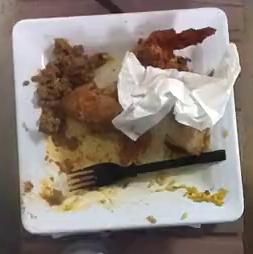bacon: (133, 27, 216, 71)
beef: (31, 37, 107, 133)
pizza_crust: (62, 82, 122, 133)
pork: (164, 119, 210, 158)
rice: (173, 185, 227, 206)
